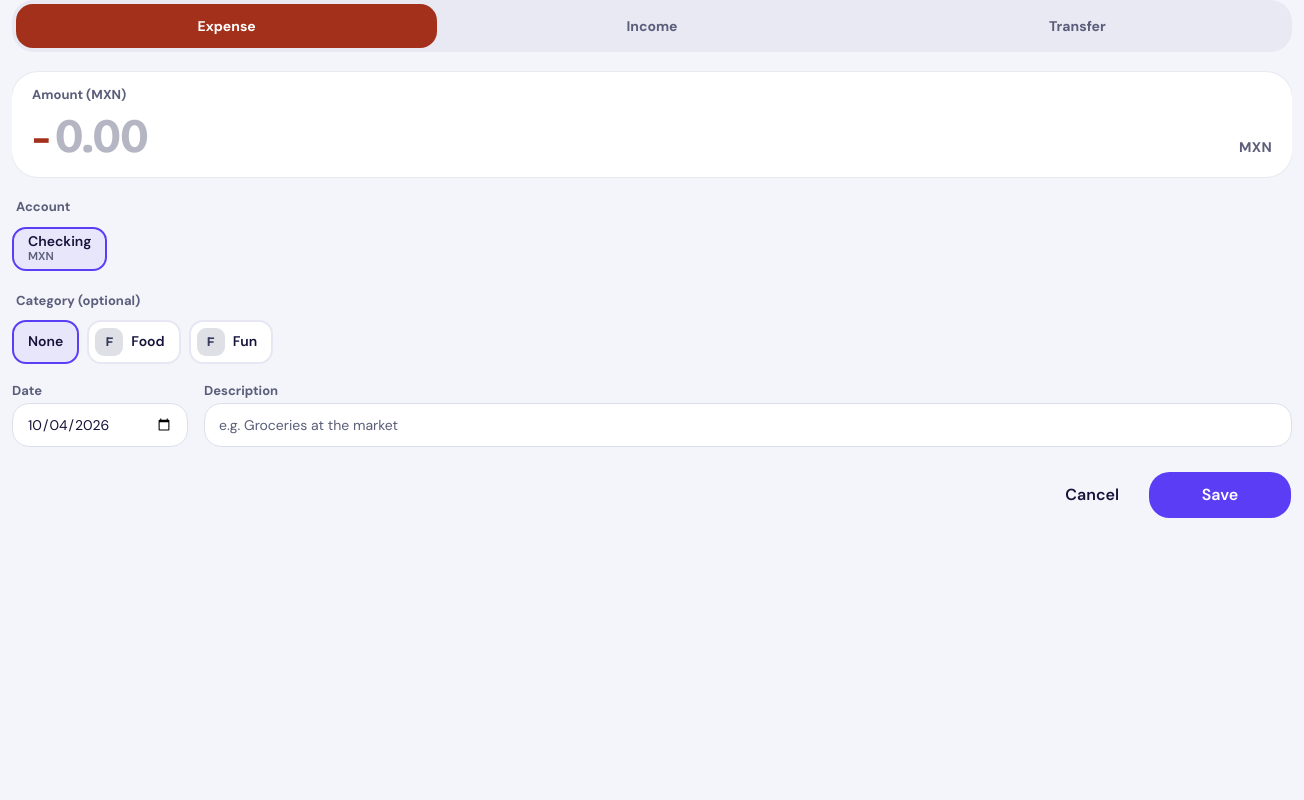
it: budget hint in the transaction form › follows the amount and category, and disappears when they no longer warn
Type "30" into the field labelled "Amount (MXN)" at (645, 136), box top-left (55, 107), bottom-right (1235, 165)
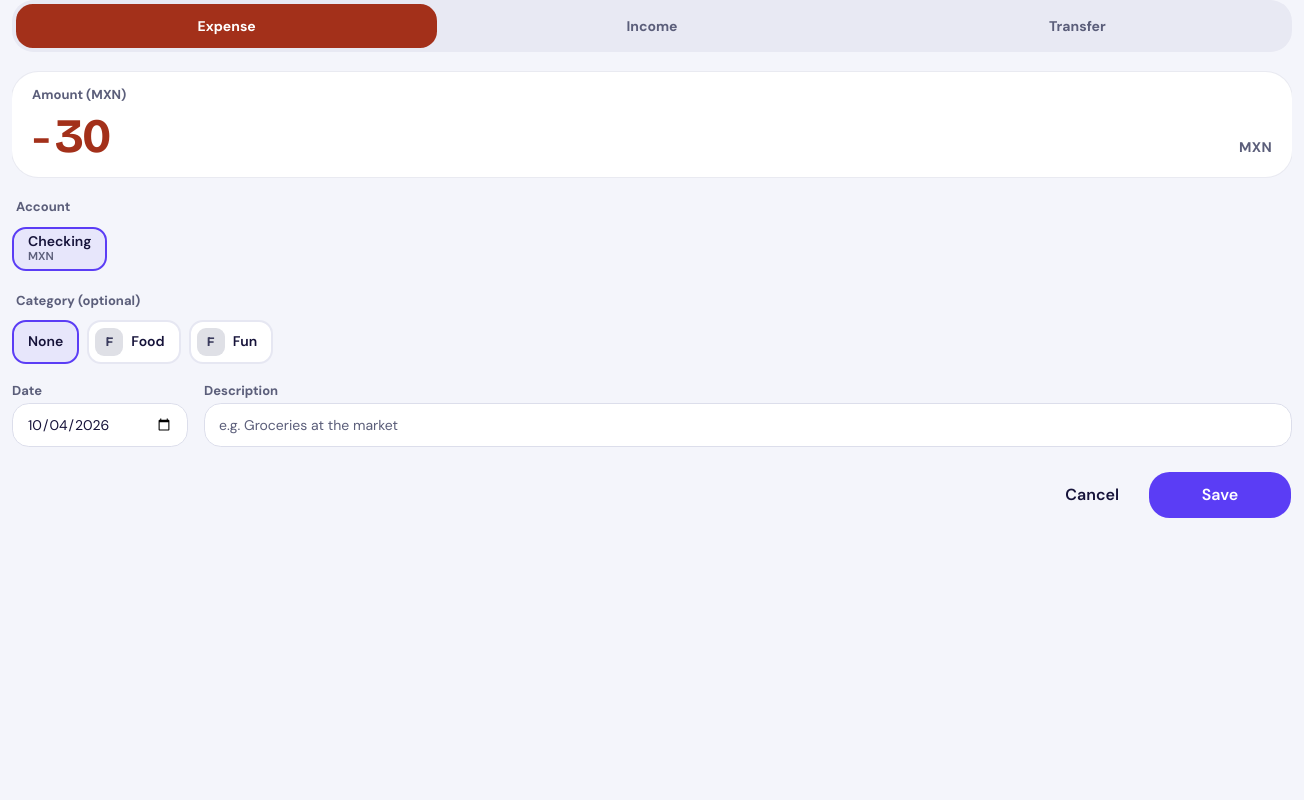
Click the radio button labelled "Food" at (134, 342), box top-left (87, 320), bottom-right (181, 364)
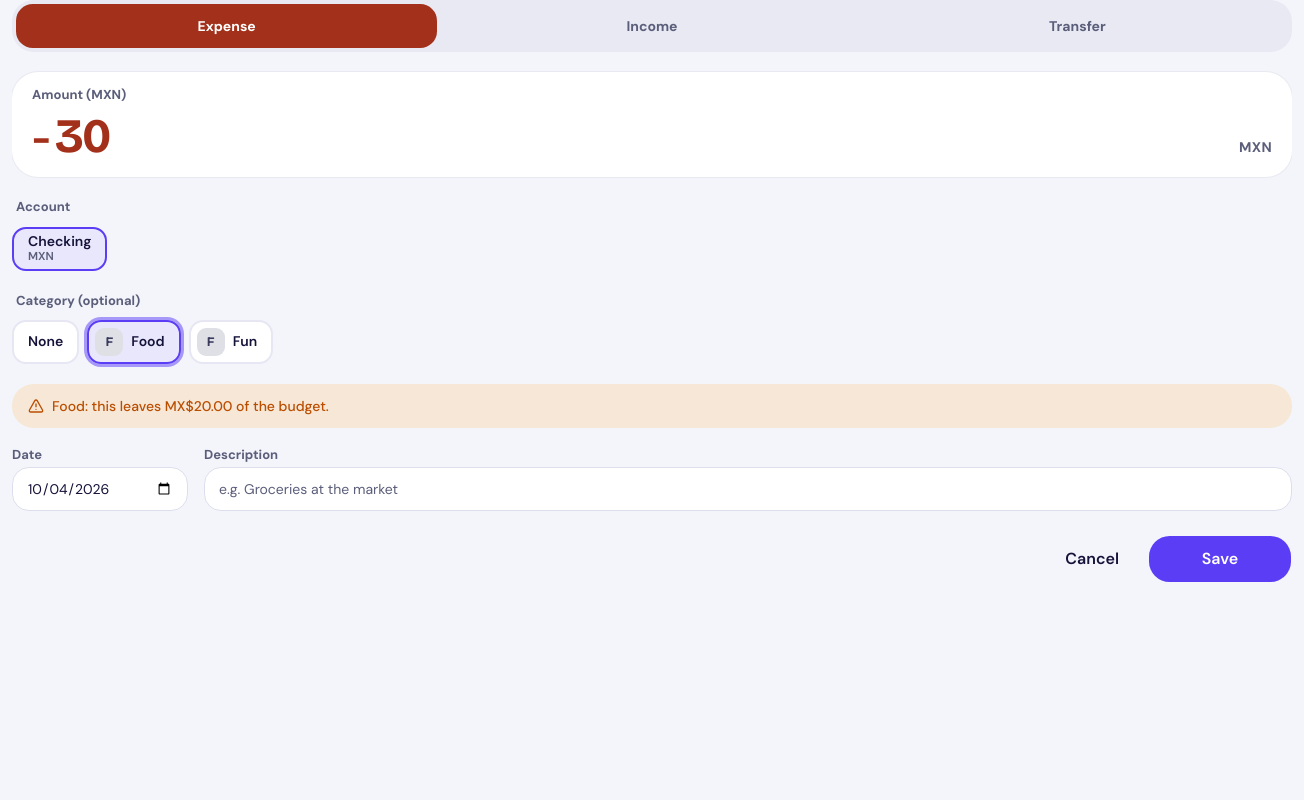
Now the text "Food: this leaves MX$20.00 of the budget." is shown, box top-left (12, 384), bottom-right (1292, 428)
Replace the text in the field labelled "Amount (MXN)" with "60" at (645, 136), box top-left (55, 107), bottom-right (1235, 165)
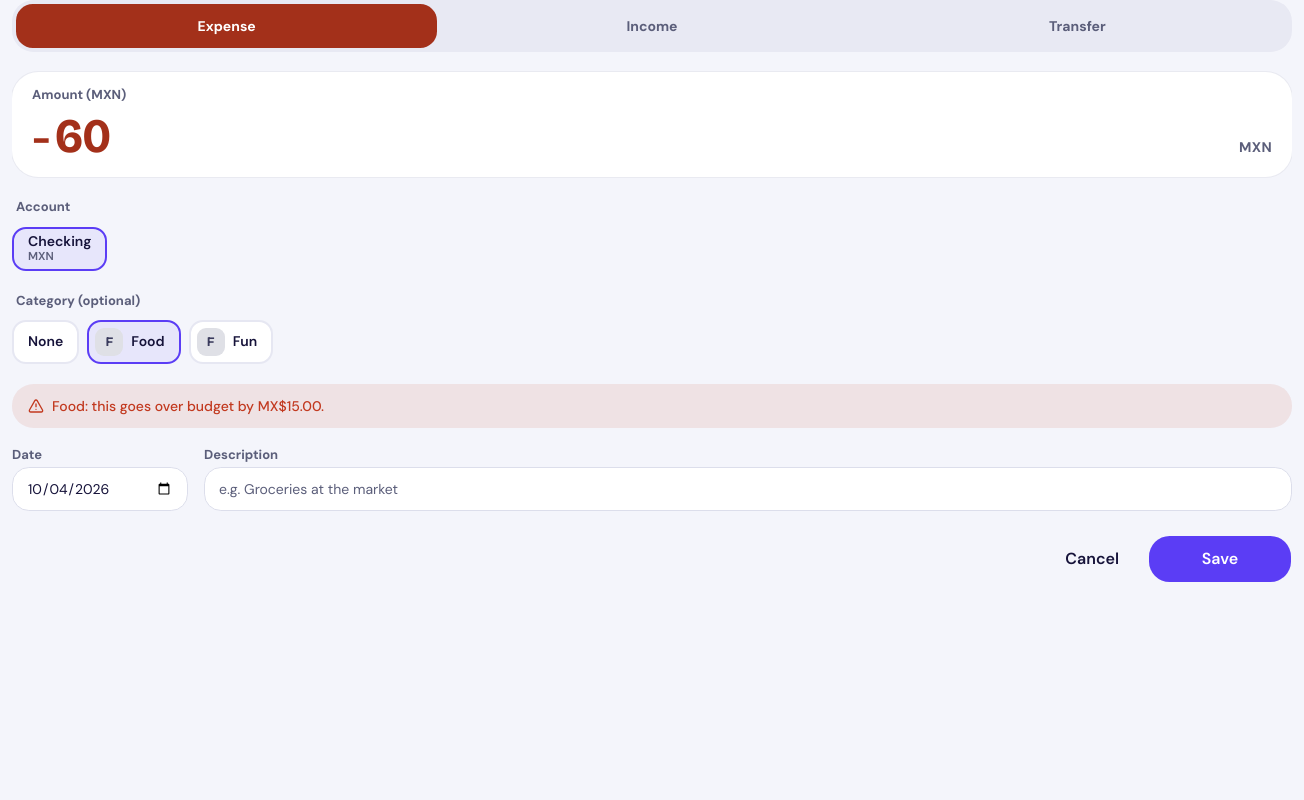
Now the message with test id "budget-hint" has attribute data-state="over", box top-left (12, 384), bottom-right (1292, 428)
Click the radio button labelled "Fun" at (231, 342), box top-left (189, 320), bottom-right (273, 364)
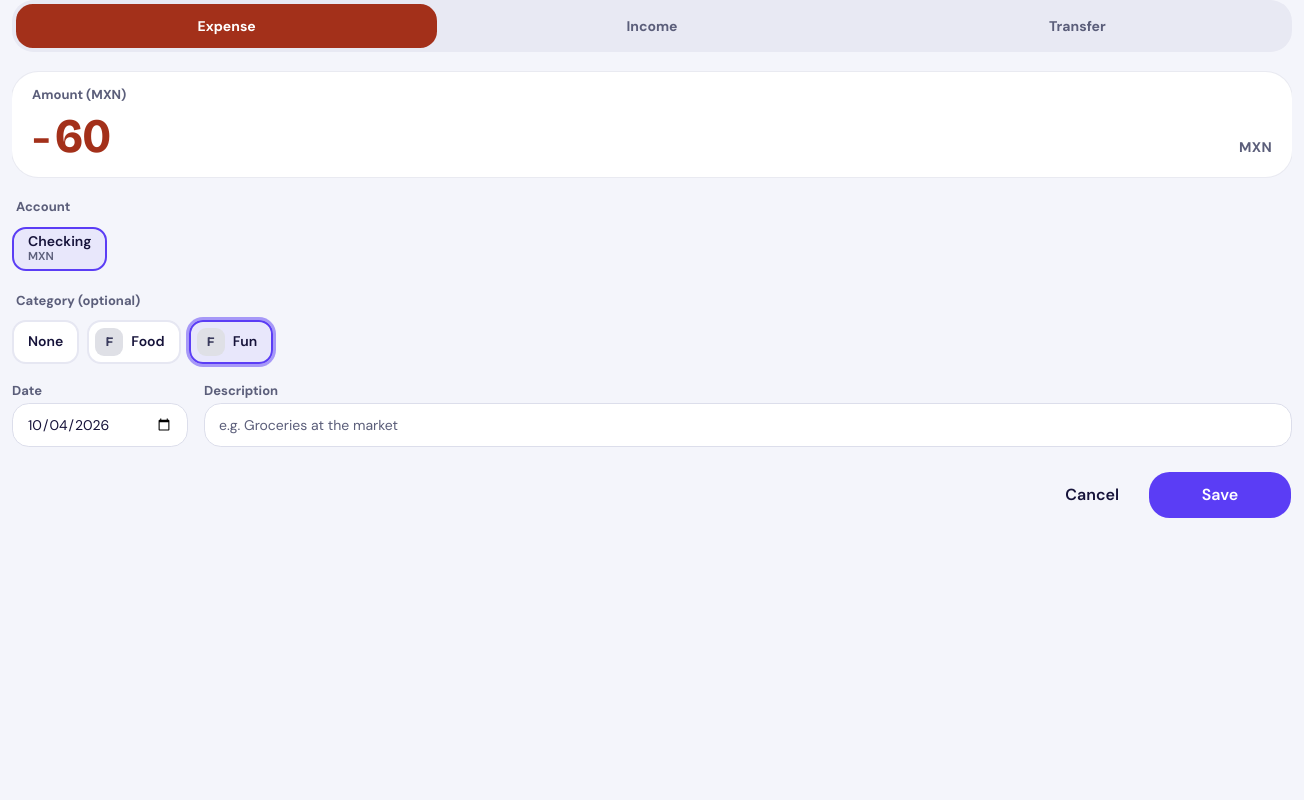
Now the message with test id "budget-hint" is gone
Click the radio button labelled "Food" at (134, 342), box top-left (87, 320), bottom-right (181, 364)
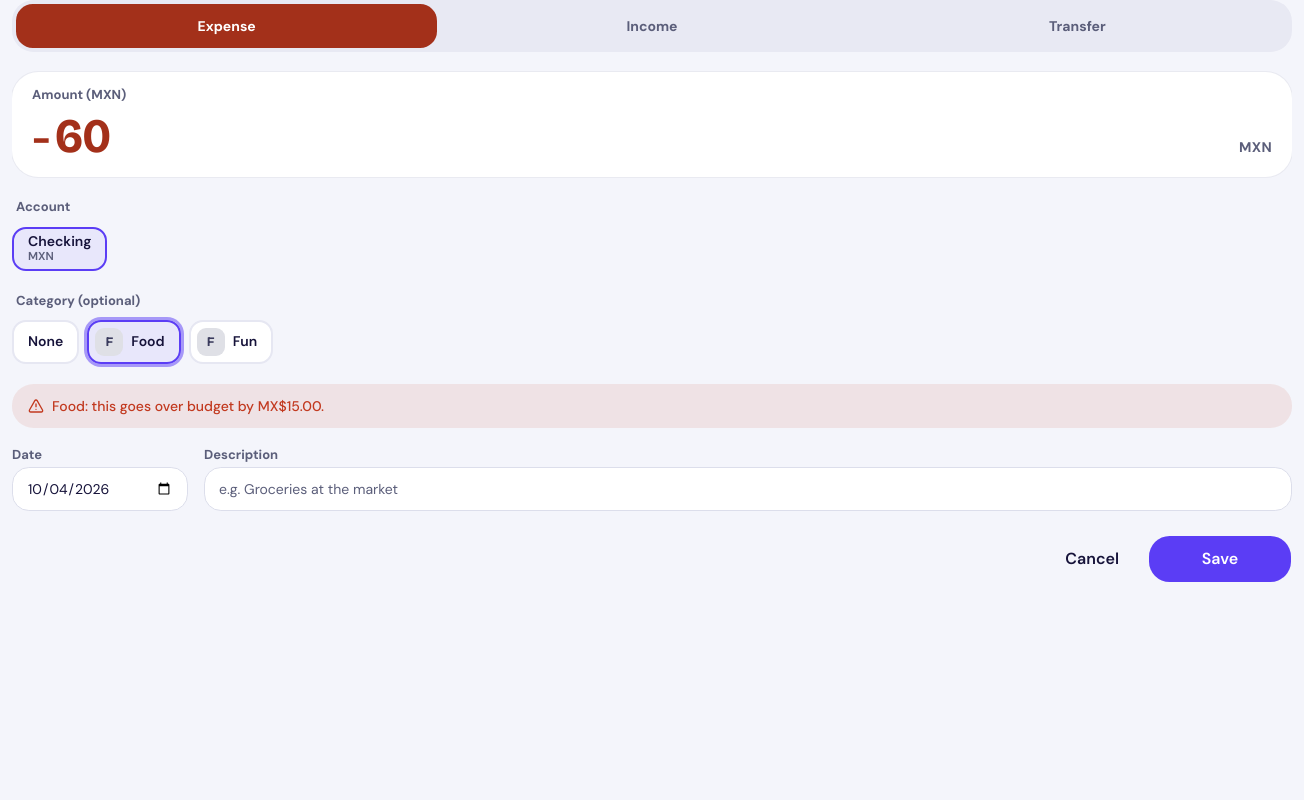
Now the message "Food: this goes over budget by MX$15.00." is shown, box top-left (12, 384), bottom-right (1292, 428)
Clear the field labelled "Amount (MXN)" at (645, 136), box top-left (55, 107), bottom-right (1235, 165)
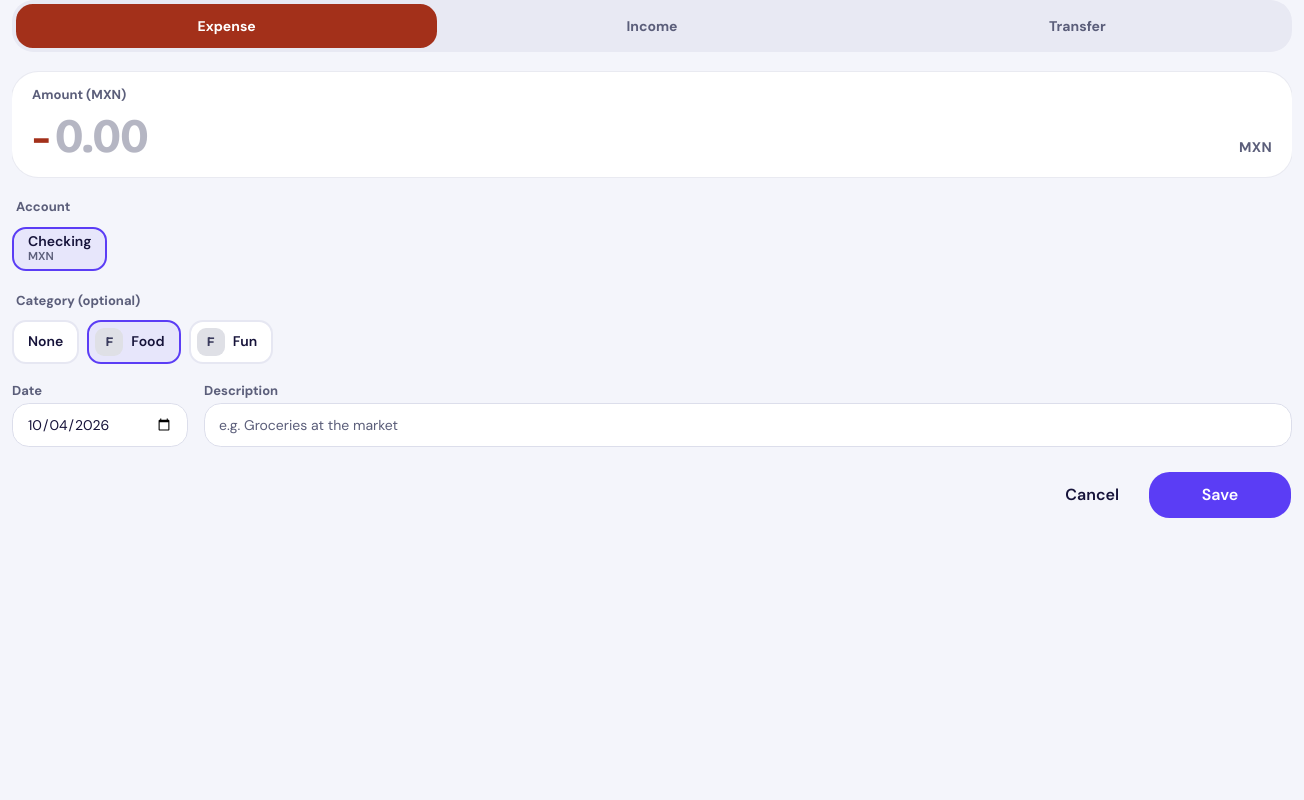
Now the message with test id "budget-hint" is gone
